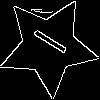I: (23, 21, 69, 57)
